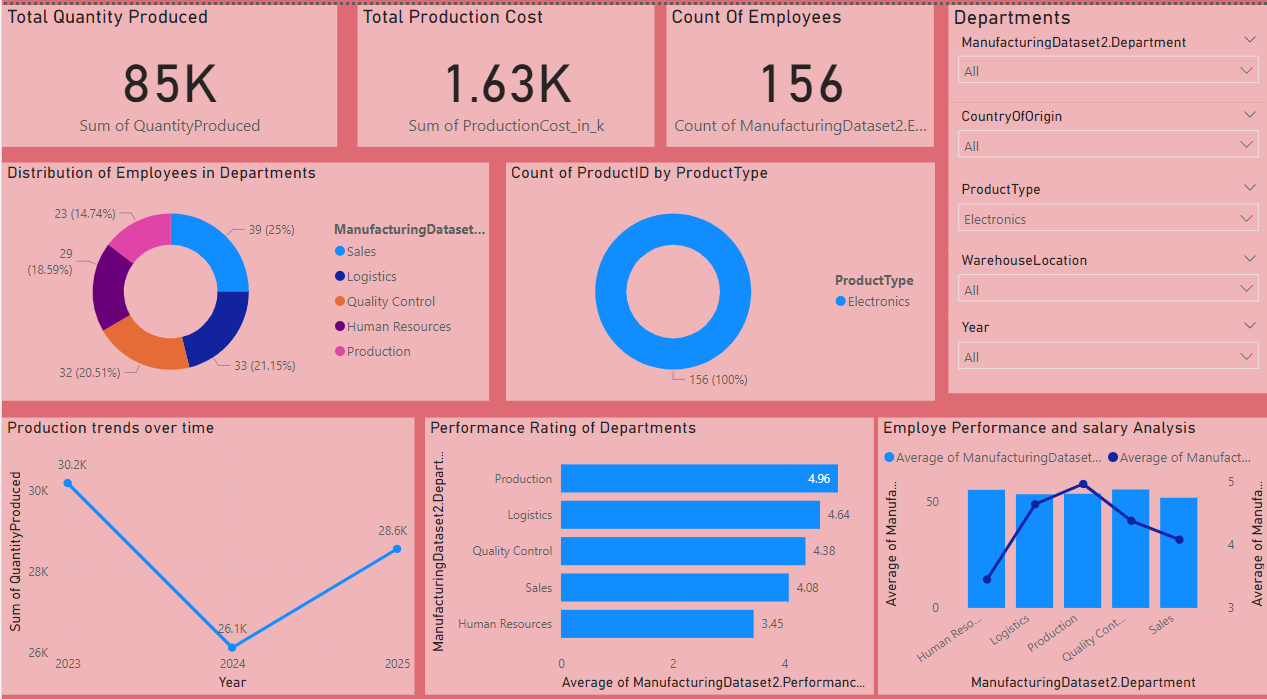

This screenshot's page, from the dashboard's own definition file:
{"tool":"powerbi","page":{"name":"Page 1","canvas":[1280,720],"ordinal":0},"visuals":[{"type":"card","title":"Total Quantity Produced","fields":{"Values":["Sum(RDataset1&2.QuantityProduced)"]},"box":[0,0,338.3,143.3],"z":0},{"type":"card","title":"Total Production Cost","fields":{"Values":["Sum(RDataset1&2.ProductionCost_in_k)"]},"box":[358.3,0,300,143.3],"z":1000},{"type":"card","title":"Count Of Employees","fields":{"Values":["CountNonNull(RDataset1&2.ManufacturingDataset2.EmployeeID)"]},"box":[671.7,0,270,143.3],"z":2000},{"type":"donutChart","title":"Distribution of Employees in Departments","fields":{"Y":["CountNonNull(RDataset1&2.ManufacturingDataset2.EmployeeID)"],"Category":["RDataset1&2.ManufacturingDataset2.Department"]},"box":[0,159,492.1,240.8],"z":3000},{"type":"slicer","title":"Departments","fields":{"Values":["RDataset1&2.ManufacturingDataset2.Department"]},"box":[956.7,0,323.3,98.3],"z":4000},{"type":"slicer","fields":{"Values":["RDataset1&2.CountryOfOrigin"]},"box":[956.7,98.3,323.3,75],"z":5000},{"type":"slicer","fields":{"Values":["RDataset1&2.ProductType"]},"box":[956.7,173.3,323.3,76.7],"z":6000},{"type":"donutChart","fields":{"Category":["RDataset1&2.ProductType"],"Y":["CountNonNull(RDataset1&2.ProductID)"]},"box":[508.8,159,433.1,240.8],"z":7000},{"type":"slicer","fields":{"Values":["RDataset1&2.WarehouseLocation"]},"box":[956.7,243.3,323.3,75],"z":8000},{"type":"slicer","fields":{"Values":["RDataset1&2.ProductionDate.Variation.Date Hierarchy.Year"]},"box":[956.7,311.7,323.3,80],"z":9000},{"type":"lineChart","title":"Production trends over time","fields":{"Y":["Sum(RDataset1&2.QuantityProduced)"],"Category":["RDataset1&2.ProductionDate.Variation.Date Hierarchy.Year"]},"box":[0,416.7,416.7,280],"z":10000},{"type":"barChart","title":"Performance Rating of Departments","fields":{"Category":["RDataset1&2.ManufacturingDataset2.Department"],"Y":["Avg(RDataset1&2.ManufacturingDataset2.PerformanceRating)"]},"box":[426.7,416.7,453.3,280],"z":11000},{"type":"lineClusteredColumnComboChart","title":"Employe Performance and salary Analysis","fields":{"Y":["Avg(RDataset1&2.ManufacturingDataset2.Salary_in_k)"],"Y2":["Avg(RDataset1&2.ManufacturingDataset2.PerformanceRating)"],"Category":["RDataset1&2.ManufacturingDataset2.Department"]},"box":[885,416.7,395,280],"z":12000}]}

Visuals, with their boxes in screenshot pixels (x1, y1, x2, y2), scaled from the page's 1280x720 canvas onto the 1267x699 screenshot:
"Total Quantity Produced" card: (0, 0, 335, 139)
"Total Production Cost" card: (355, 0, 652, 139)
"Count Of Employees" card: (665, 0, 932, 139)
"Distribution of Employees in Departments" donutChart: (0, 154, 487, 388)
"Departments" slicer: (947, 0, 1266, 95)
slicer - RDataset1&2.CountryOfOrigin: (947, 95, 1266, 168)
slicer - RDataset1&2.ProductType: (947, 168, 1266, 243)
donutChart - RDataset1&2.ProductType x CountNonNull(RDataset1&2.ProductID): (504, 154, 932, 388)
slicer - RDataset1&2.WarehouseLocation: (947, 236, 1266, 309)
slicer - RDataset1&2.ProductionDate.Variation.Date Hierarchy.Year: (947, 303, 1266, 380)
"Production trends over time" lineChart: (0, 405, 412, 676)
"Performance Rating of Departments" barChart: (422, 405, 871, 676)
"Employe Performance and salary Analysis" lineClusteredColumnComboChart: (876, 405, 1266, 676)
